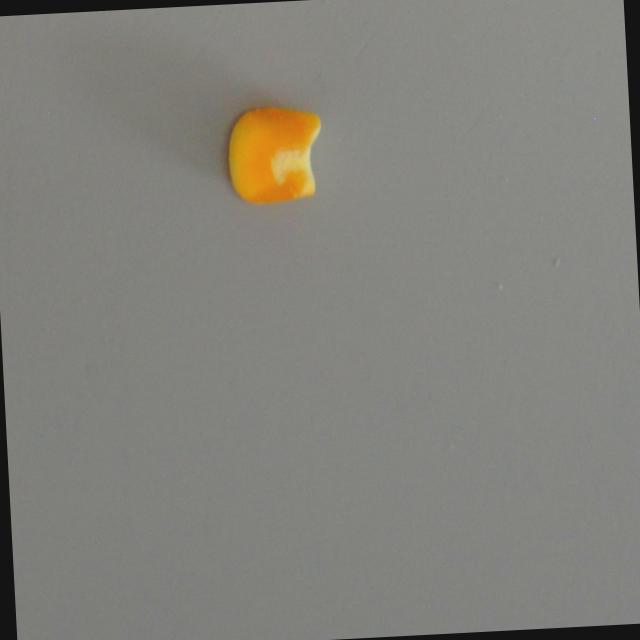no_canjicado: (225, 102, 327, 208)
